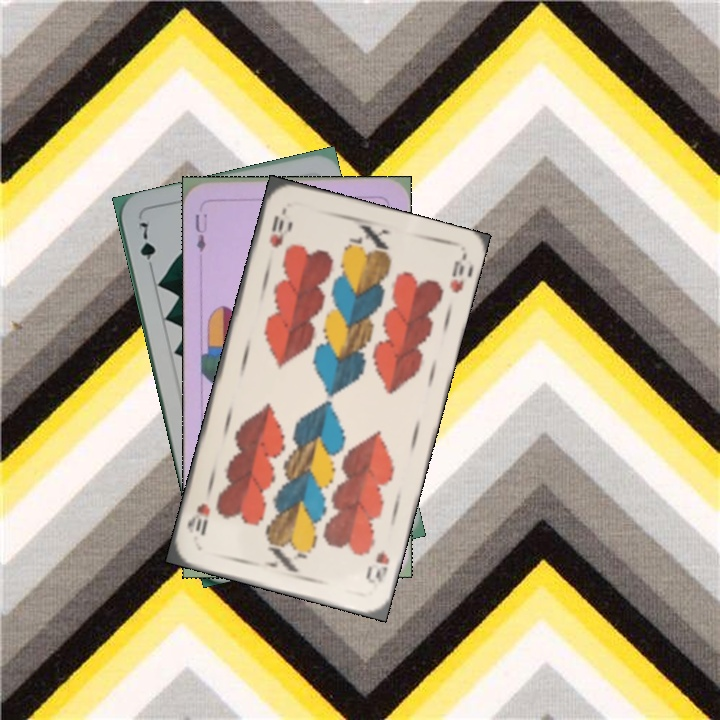EU: (191, 210, 210, 255)
G7: (134, 218, 158, 274)
H10: (362, 546, 392, 592), (265, 211, 287, 250)
